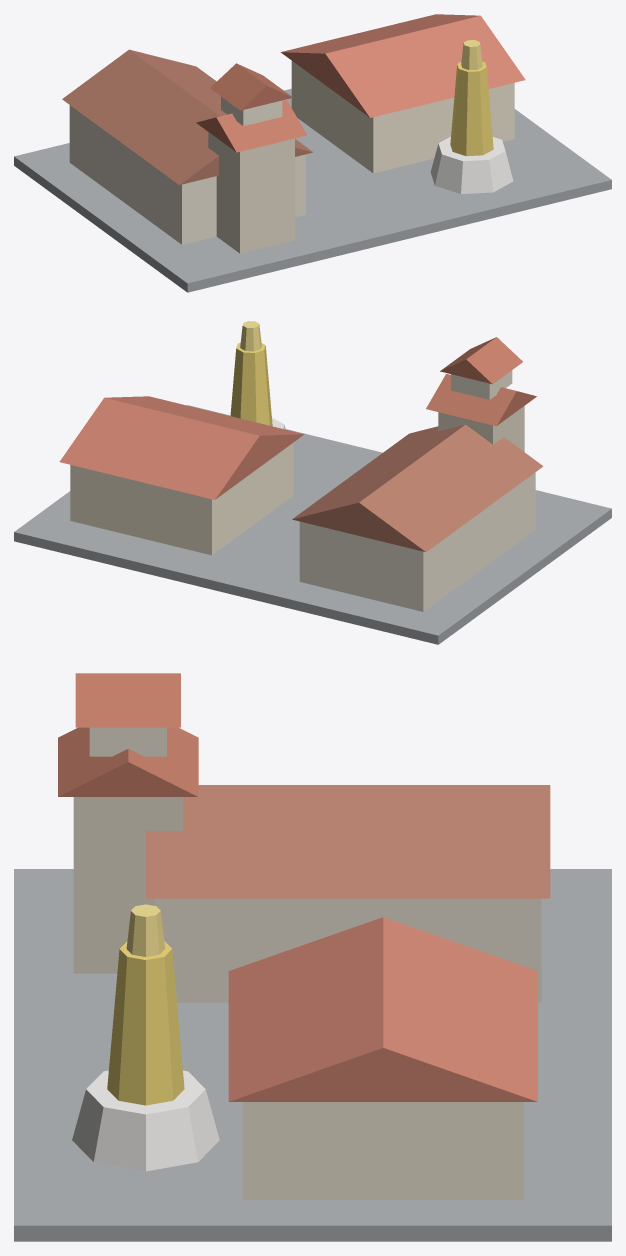
File: lm_45_nha_tho_du_sinh_chua_van_hanh_hilltop_kit.glb
3 views of the same model, one above another, from view 1: azimuth 30°, elevation 25°; view 2: azimuth 150°, elevation 25°; view 3: azimuth 270°, elevation 25° (orthographic). The views are drawn at different scales.
Visible parts, largest first — view 1: lm_45_nha_tho_du_sinh_chua_van_hanh_hilltop_kit; view 2: lm_45_nha_tho_du_sinh_chua_van_hanh_hilltop_kit; view 3: lm_45_nha_tho_du_sinh_chua_van_hanh_hilltop_kit.
Boxes of the visible parts, box(x1,y1,x2,y2) form: lm_45_nha_tho_du_sinh_chua_van_hanh_hilltop_kit: box(14, 14, 611, 292); lm_45_nha_tho_du_sinh_chua_van_hanh_hilltop_kit: box(14, 321, 611, 644); lm_45_nha_tho_du_sinh_chua_van_hanh_hilltop_kit: box(14, 673, 611, 1241).
Size of the model in its own units: 48 by 18.4 by 34.
